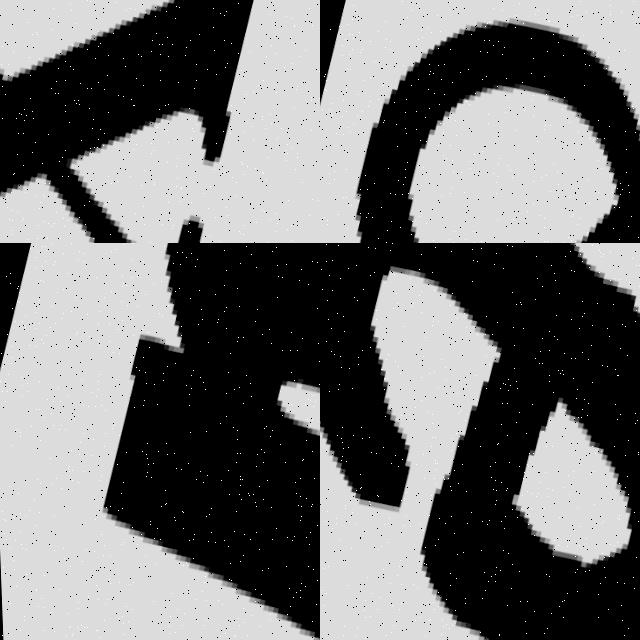8: (320, 0, 640, 243)
E: (320, 243, 640, 640)
U: (43, 243, 320, 640)
X: (0, 0, 303, 243)
